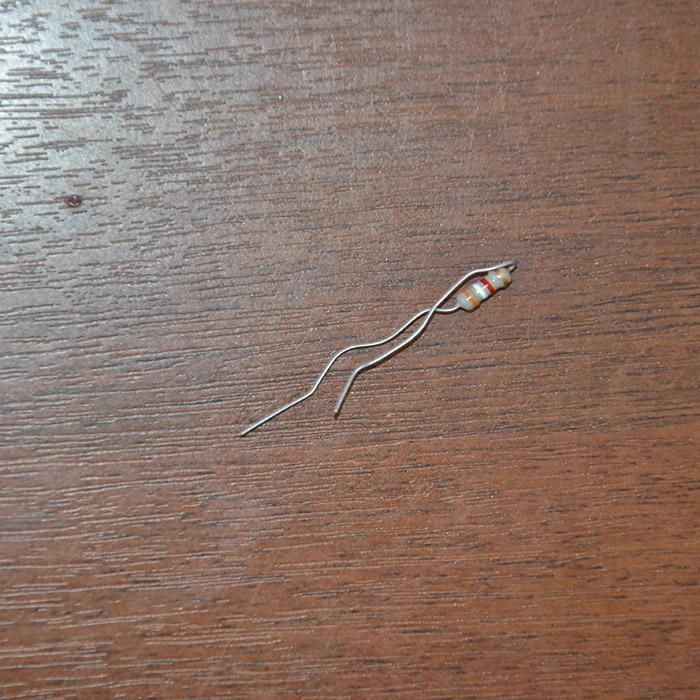resistor: (454, 267, 511, 313)
